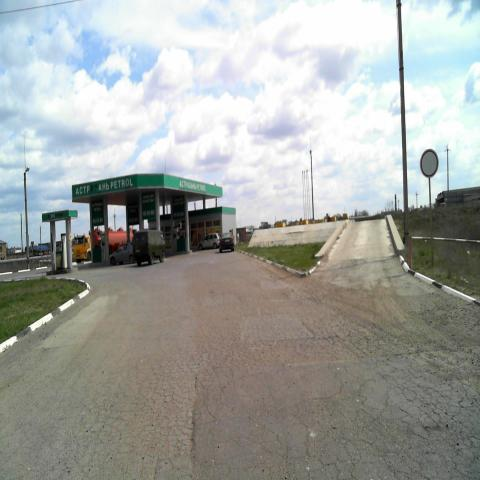3_2: (419, 148, 439, 180)
